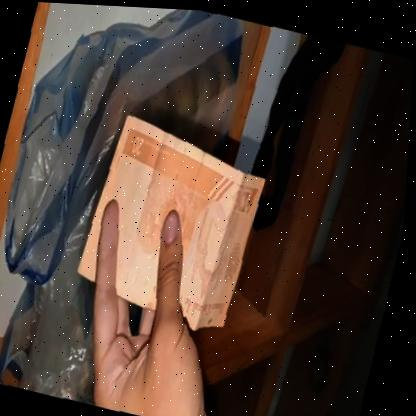twenty-back-vef: (70, 109, 276, 337)
